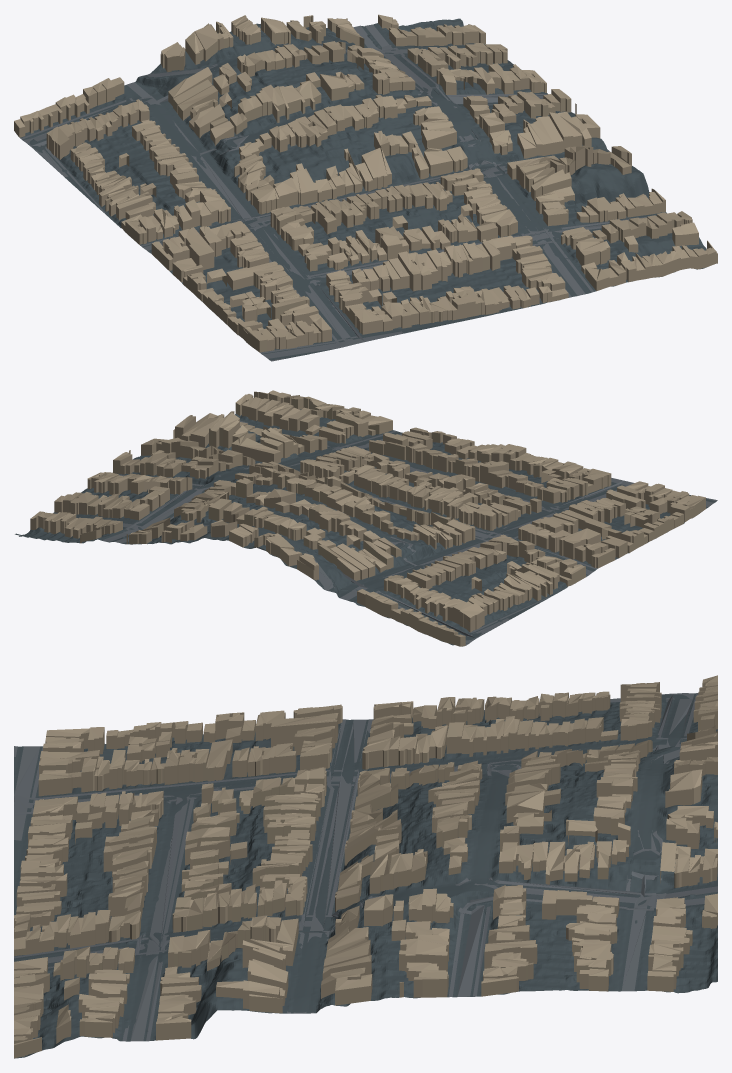
File: epsg26910-1432-10883.lod0.glb
The picture shows the model from 3 angles, top to bottom: view 1: azimuth 30°, elevation 25°; view 2: azimuth 150°, elevation 25°; view 3: azimuth 270°, elevation 25°; orthographic projection. The views are drawn at different scales.
Parts seen in each view (by area): view 1: epsg26910-1432-10883-lod0; view 2: epsg26910-1432-10883-lod0; view 3: epsg26910-1432-10883-lod0.
Boxes of the visible parts, x1=… form: epsg26910-1432-10883-lod0: x1=14, y1=14, x2=717, y2=361; epsg26910-1432-10883-lod0: x1=15, y1=390, x2=717, y2=646; epsg26910-1432-10883-lod0: x1=14, y1=675, x2=717, y2=1058.
Bounding box in the file's own units: 384 × 94.6 × 384.
